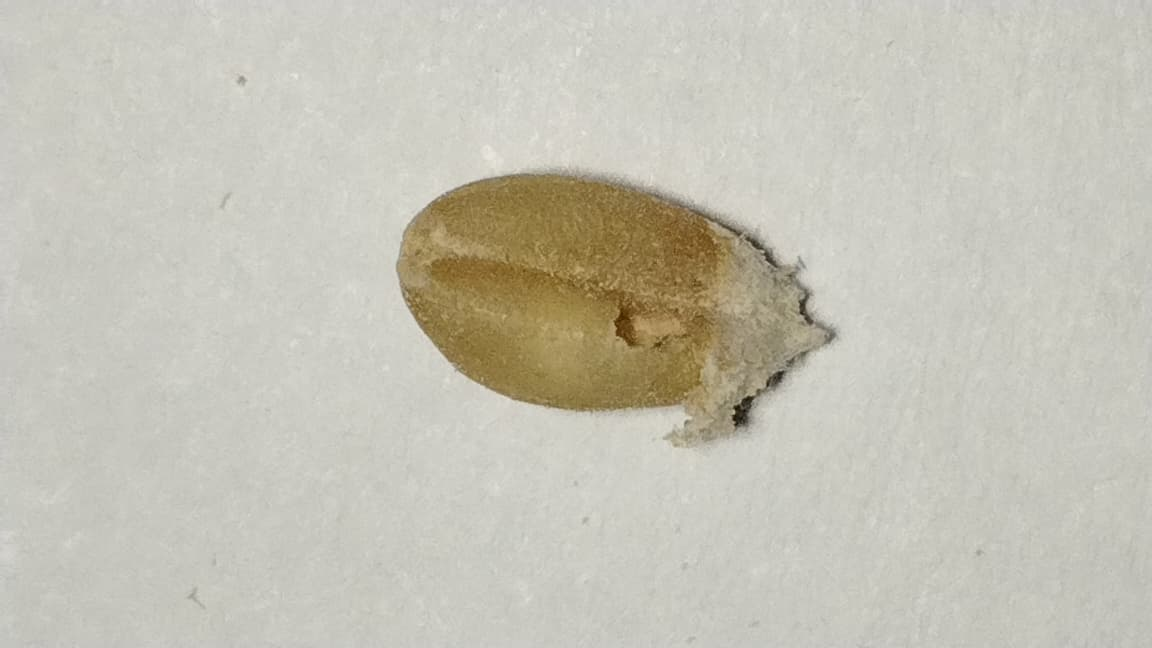damage: (399, 174, 832, 444)
insectdamage: (606, 295, 695, 352)
molddamage: (686, 223, 775, 436)
